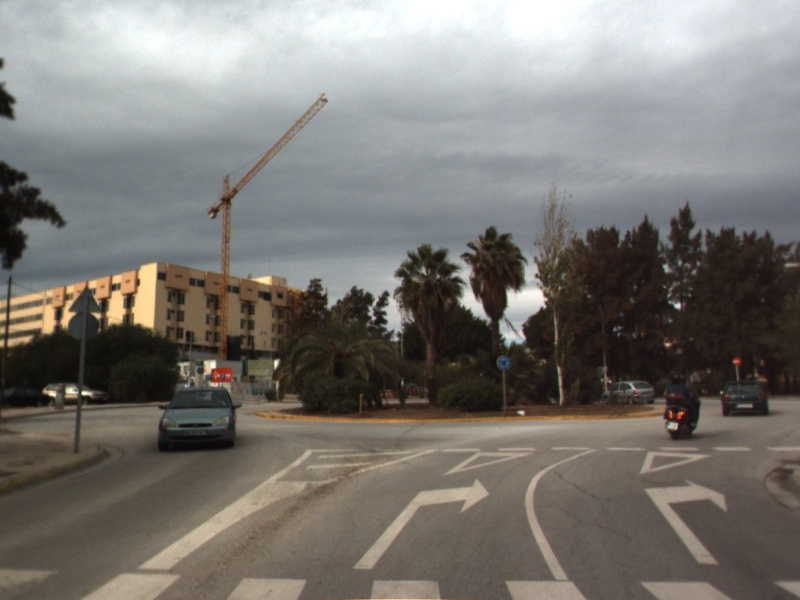RIGHT: (351, 476, 492, 571), (642, 476, 729, 567)
